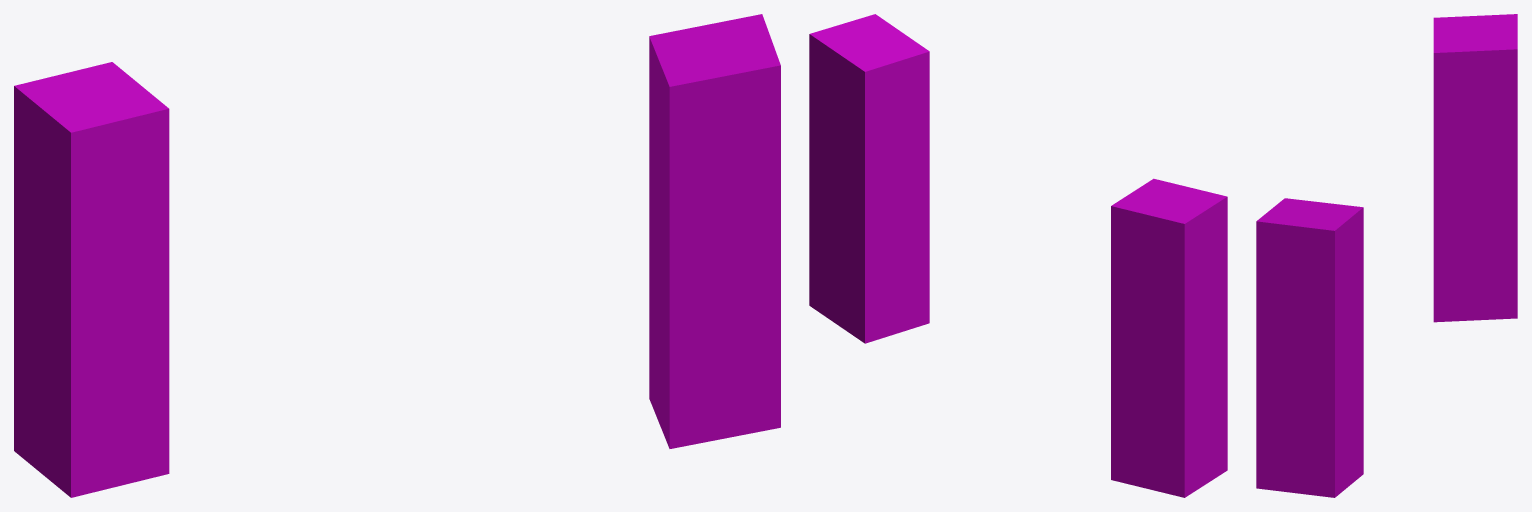
Rendered from M09_Z02_TeethBlock01.glb.
3 renders of one model, left to right at view 1: azimuth 30°, elevation 25°; view 2: azimuth 150°, elevation 25°; view 3: azimuth 270°, elevation 25°, orthographic. The views are drawn at different scales.
Parts seen in each view (by area): view 1: M09_Z02_TEETHBLOCK01; view 2: M09_Z02_TEETHBLOCK01; view 3: M09_Z02_TEETHBLOCK01.
Part boxes in pixels (left/top/right/bottom): M09_Z02_TEETHBLOCK01: left=14, top=14, right=780, bottom=497; M09_Z02_TEETHBLOCK01: left=809, top=14, right=1227, bottom=497; M09_Z02_TEETHBLOCK01: left=1256, top=14, right=1517, bottom=497.
Bounding box in the file's own units: 14.29 × 8.33 × 7.03.
